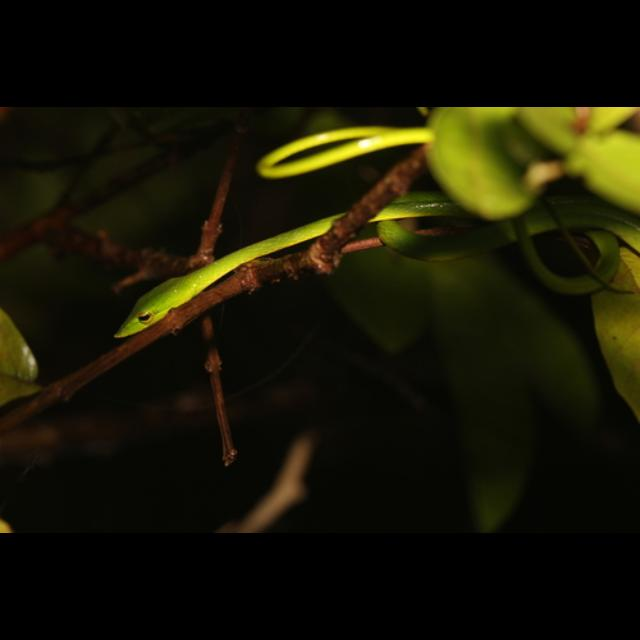snake: (110, 106, 640, 348)
